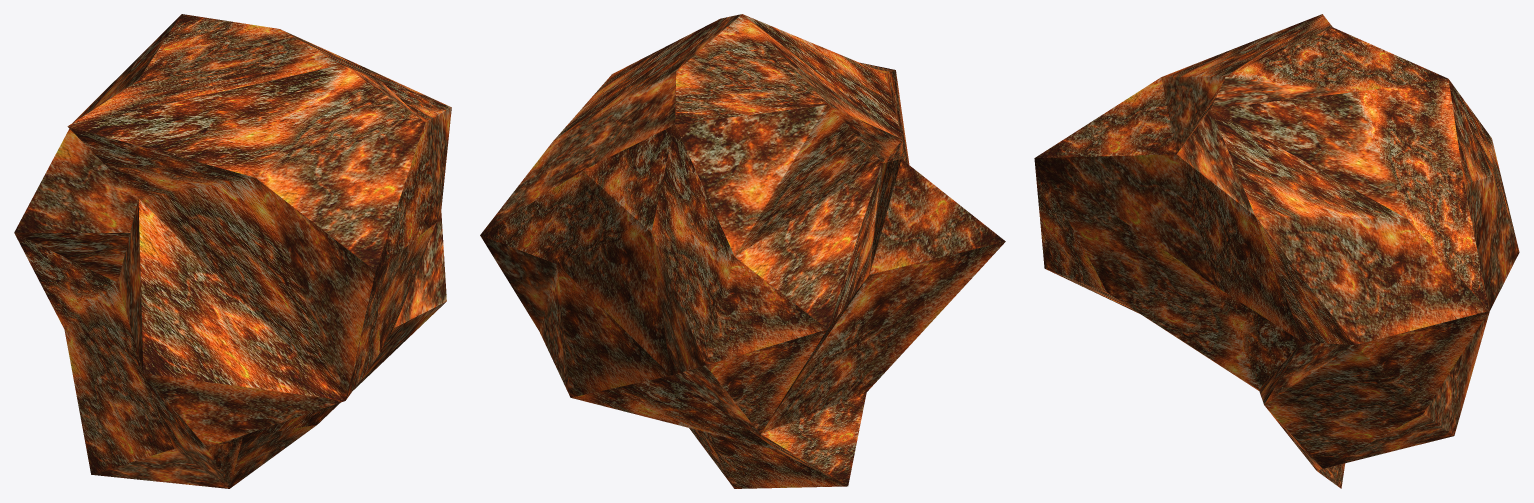
Rendered from Rock.fbx.
The picture shows the model from 3 angles, left to right: view 1: azimuth 30°, elevation 25°; view 2: azimuth 150°, elevation 25°; view 3: azimuth 270°, elevation 25°; orthographic projection. The views are drawn at different scales.
Parts seen in each view (by area): view 1: Platonic; view 2: Platonic; view 3: Platonic.
Boxes of the visible parts, box(x1,y1,x2,y2) form: Platonic: box(14, 14, 451, 488); Platonic: box(480, 14, 1005, 488); Platonic: box(1034, 14, 1519, 488).
Bounding box in the file's own units: 154 × 167 × 168.
1 material, 1 textured.
